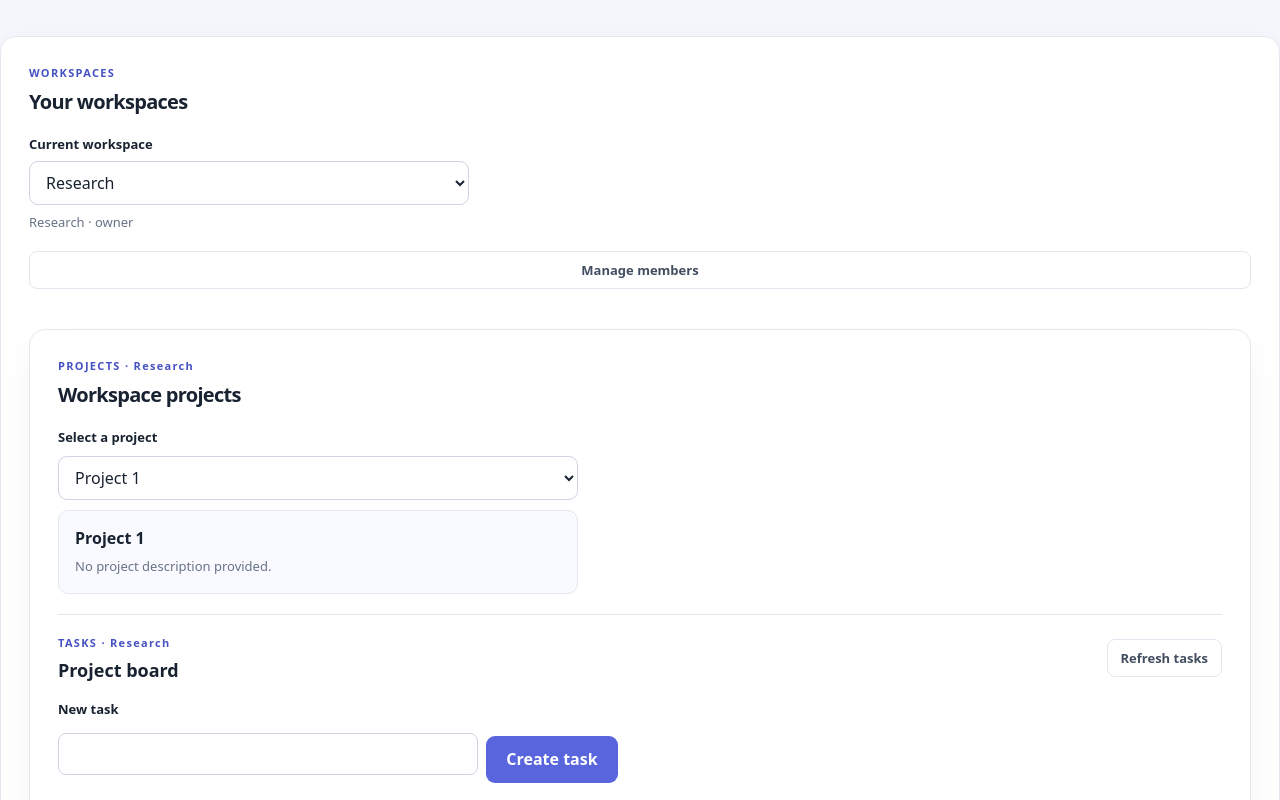
Test case: workspace selection › switches the selected workspace
Expected: the heading "Project 1" is shown, [75,527,145,549]
Select "Design" in the dropdown labelled "Current workspace" at (249, 183), box [29,161,469,205]
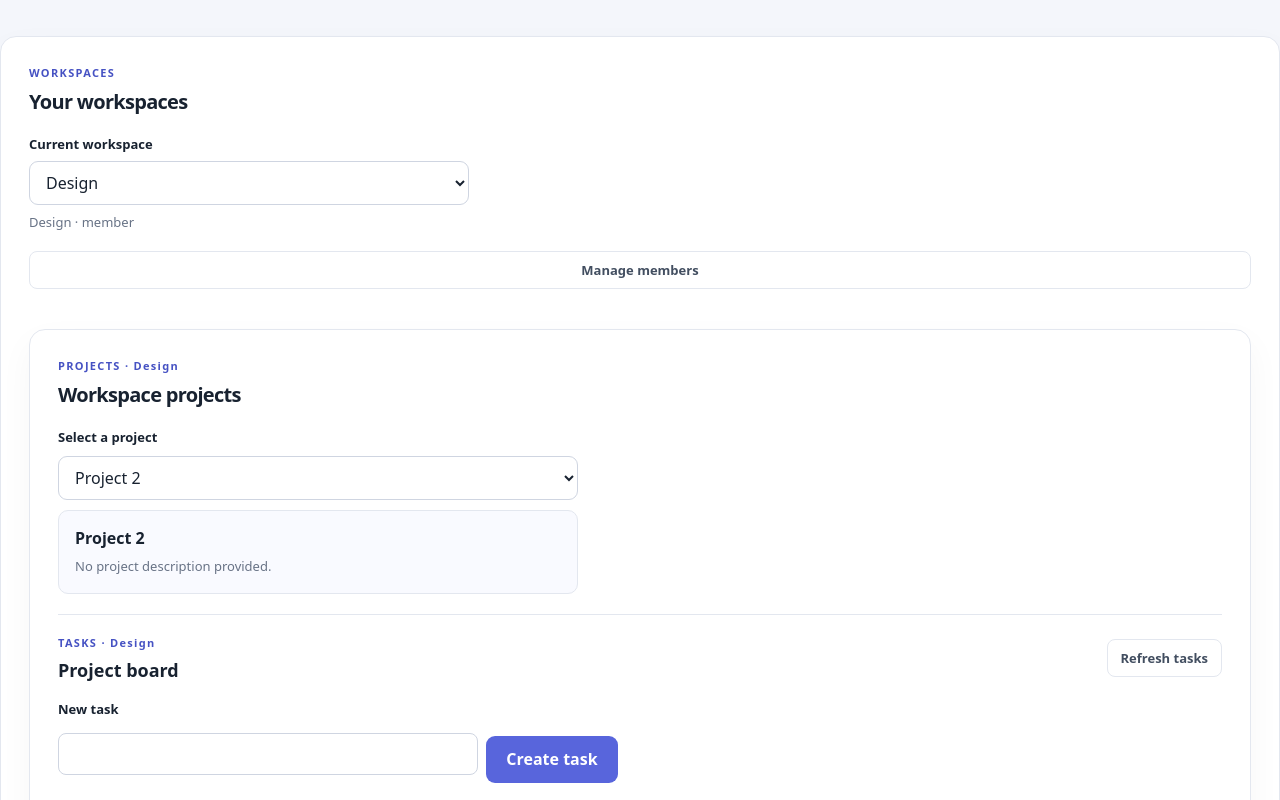
Expected: the message reads "Design · member", [29,213,134,231]
Expected: the heading "Project 2" is shown, [75,527,145,549]
